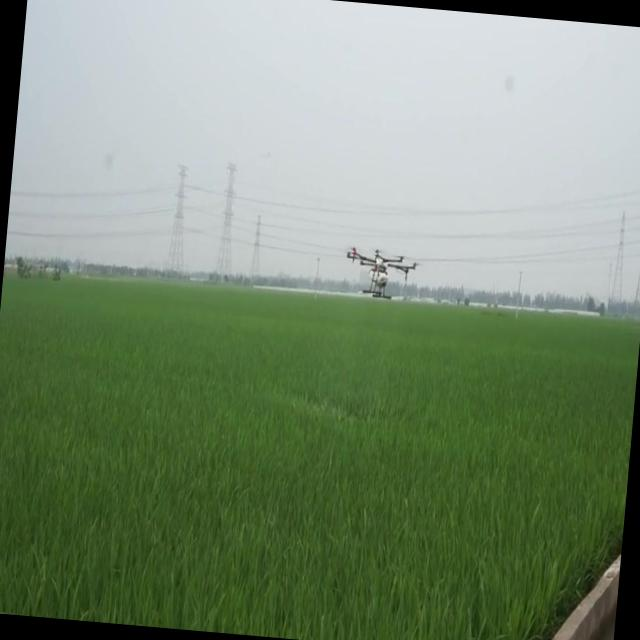drone: (338, 241, 418, 304)
